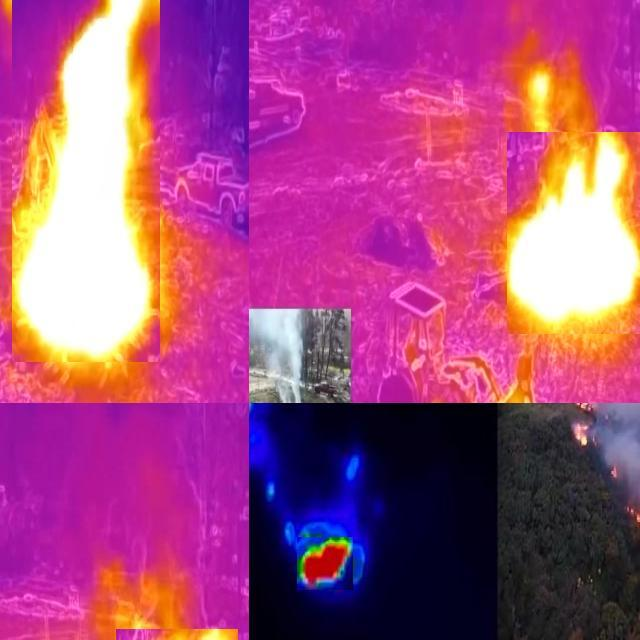fire: (13, 1, 161, 363), (508, 133, 640, 335), (298, 538, 354, 591), (573, 404, 608, 454), (626, 500, 640, 554), (611, 464, 621, 484)
